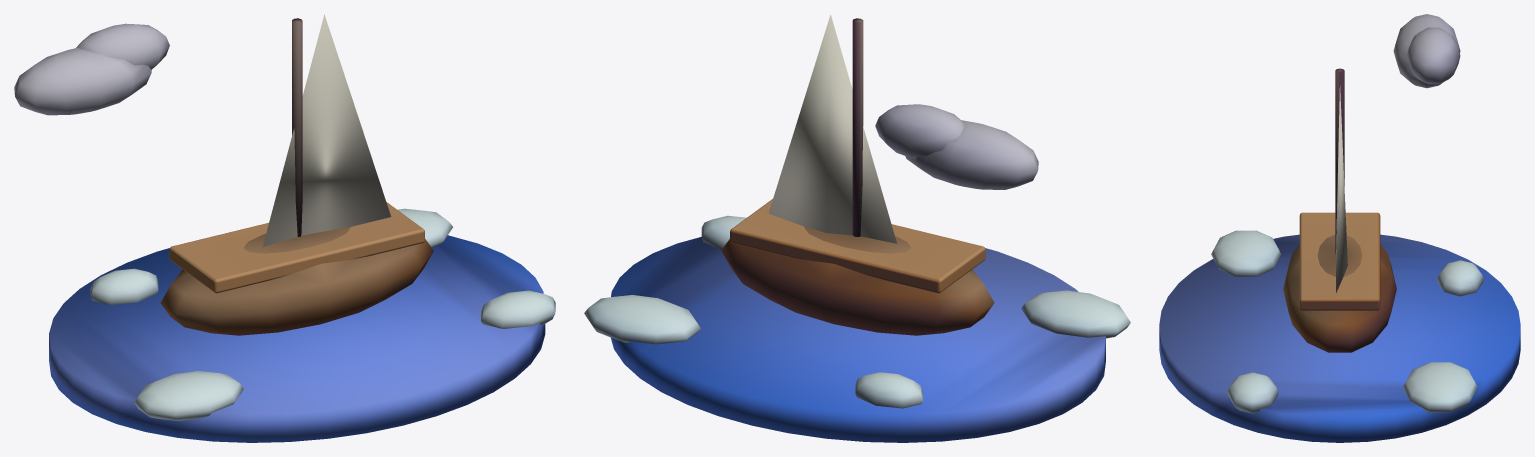
The model's file is boat.glb.
3 renders of one model, left to right at view 1: azimuth 30°, elevation 25°; view 2: azimuth 150°, elevation 25°; view 3: azimuth 270°, elevation 25°, orthographic. The views are drawn at different scales.
Visible parts, largest first — view 1: boat; view 2: boat; view 3: boat.
Part boxes in pixels (x1,y1,x2,y2): boat: (14,14,555,442); boat: (584,14,1130,442); boat: (1159,14,1520,442).
Bounding box in the file's own units: 6.7 × 4.6 × 5.4.
